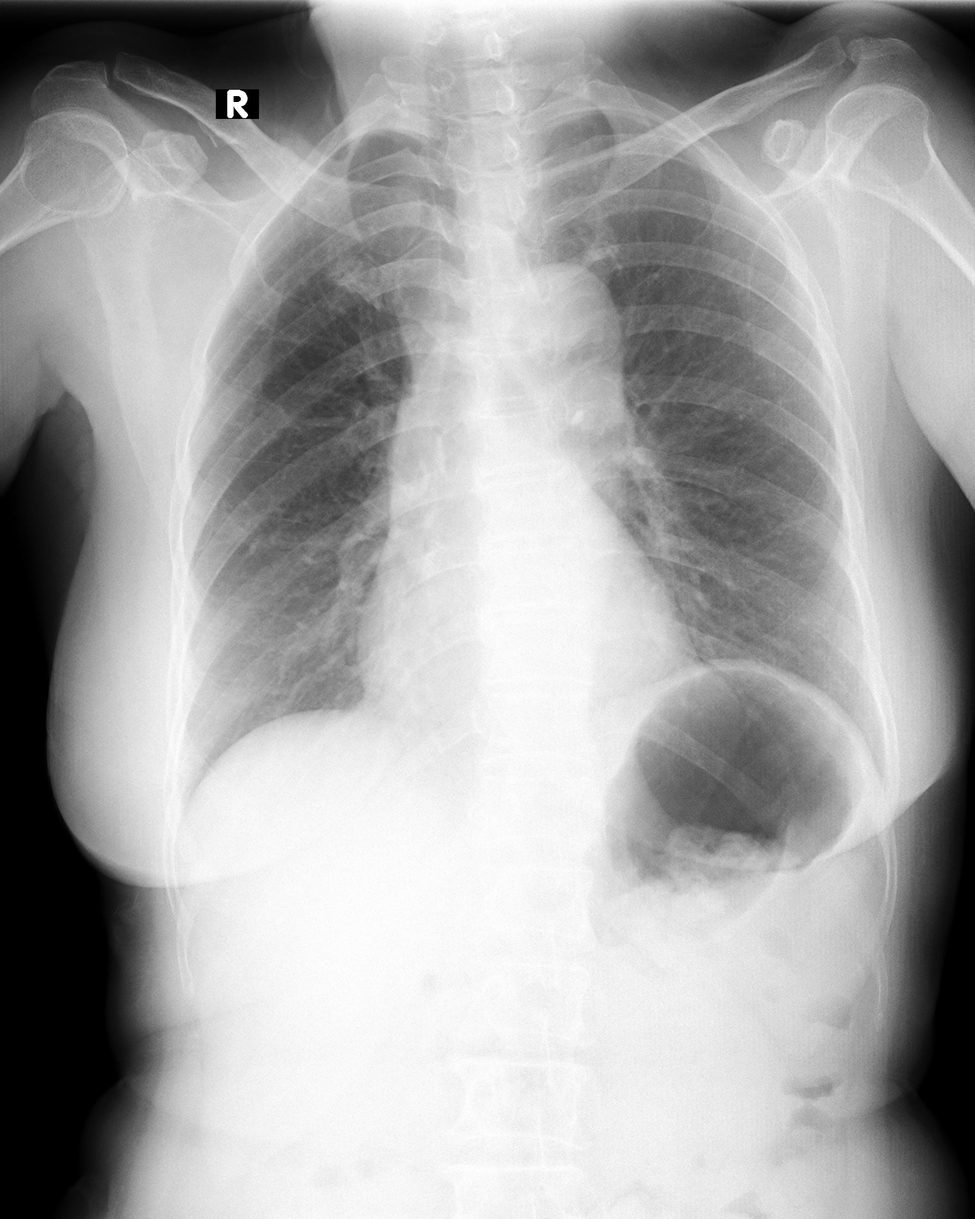Aortic enlargement: (504, 269, 625, 426)
